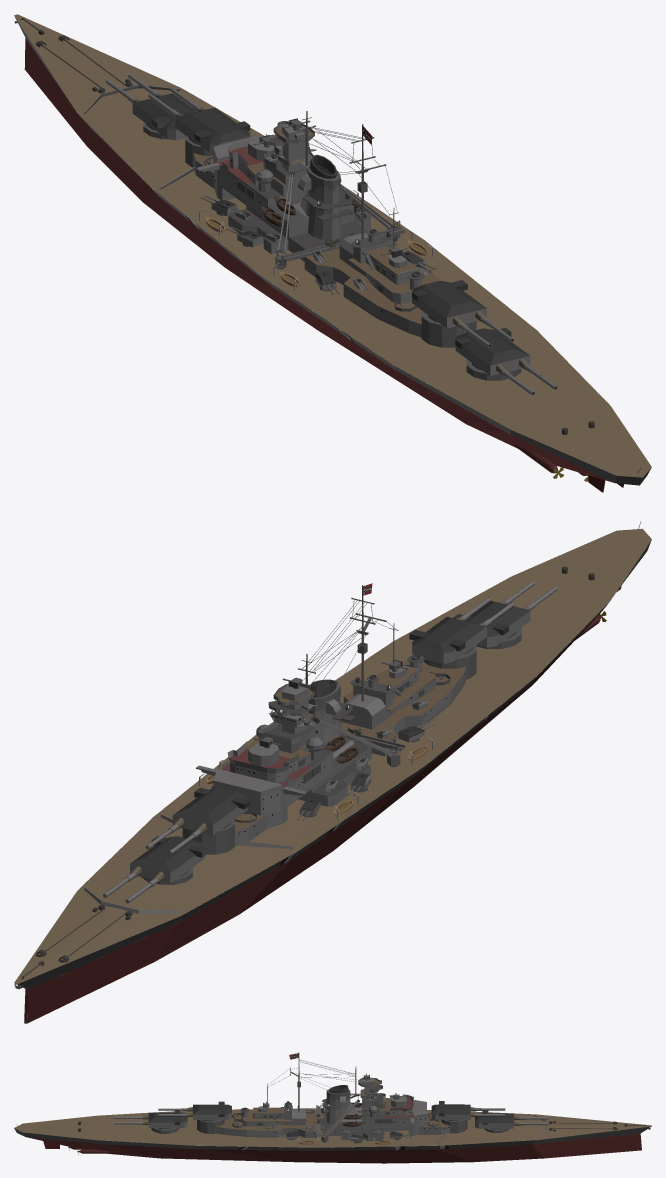
Rendered from lowpoly_bismarck.gltf.
3 views of the same model, one above another, from view 1: azimuth 30°, elevation 25°; view 2: azimuth 150°, elevation 25°; view 3: azimuth 270°, elevation 25° (orthographic). The views are drawn at different scales.
Visible parts, largest first — view 1: cylinder_0, cuboid_8, cuboid_83, cuboid_252, cuboid_257, cylinder_69, cuboid_242, cuboid_245, cuboid_27, cuboid_89, cylinder_86, cuboid_80 (+2 smaller); view 2: cylinder_0, cuboid_8, cuboid_83, cuboid_252, cuboid_242, cuboid_245, cuboid_27, cuboid_257, cuboid_90, cuboid_80, cylinder_69, cuboid_36 (+3 smaller); view 3: cylinder_0, cuboid_8, cuboid_85, cylinder_69, cuboid_242, cuboid_252, cuboid_257, cuboid_245, cuboid_27, cuboid_89, cuboid_1, cuboid_81 (+7 smaller).
Part boxes in pixels (x1,y1,x2,y2): cylinder_0: (14,14,651,485); cuboid_8: (213,135,367,261); cuboid_83: (304,252,421,337); cuboid_252: (412,281,486,328); cuboid_257: (455,328,530,375); cylinder_69: (300,164,342,240); cuboid_242: (175,107,250,153); cuboid_245: (132,93,193,140); cuboid_27: (228,134,302,195); cuboid_89: (348,258,435,304); cylinder_86: (421,310,476,347); cuboid_80: (228,209,288,254); cylinder_0: (14,528,651,1023); cuboid_8: (213,733,371,828); cuboid_83: (364,666,466,756); cuboid_252: (412,617,486,663); cuboid_242: (172,788,247,835); cuboid_245: (130,836,204,883); cuboid_27: (227,737,317,783); cuboid_257: (466,601,530,647); cuboid_90: (341,693,385,729); cuboid_80: (311,761,370,806); cylinder_69: (308,681,341,745); cuboid_36: (263,722,315,753); cylinder_0: (14,1108,651,1163); cuboid_8: (317,1100,426,1135); cuboid_85: (216,1124,316,1137); cylinder_69: (326,1089,359,1124); cuboid_242: (431,1104,470,1119); cuboid_252: (193,1104,231,1119); cuboid_257: (148,1112,187,1127); cuboid_245: (475,1113,513,1128); cuboid_27: (362,1094,412,1116); cuboid_89: (242,1110,291,1126); cuboid_1: (419,1113,450,1134); cuboid_81: (341,1130,384,1140).
Size of the model in its own units: 7.94 by 9.39 by 54.06.
Materials: 10 (10 with a texture image).
